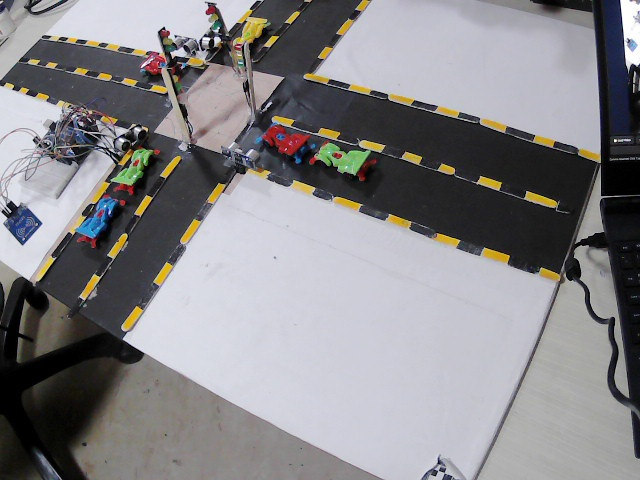aruco_marker: (421, 455, 468, 480)
black_strip: (55, 227, 76, 256), (136, 283, 160, 306), (508, 257, 540, 274), (292, 117, 320, 134), (336, 128, 360, 145), (497, 184, 526, 198), (98, 259, 117, 279), (65, 299, 82, 320), (146, 177, 167, 194), (191, 202, 211, 219), (122, 218, 141, 235), (268, 172, 291, 186), (168, 244, 186, 261), (95, 258, 114, 274), (363, 205, 388, 217), (411, 224, 435, 236), (313, 187, 332, 202), (382, 145, 403, 157), (411, 101, 436, 111), (106, 165, 121, 181), (550, 144, 576, 153), (506, 130, 529, 140), (459, 240, 478, 252), (226, 22, 241, 37), (459, 114, 480, 124), (327, 33, 342, 47), (454, 169, 477, 178), (111, 122, 131, 132), (309, 59, 324, 72), (135, 79, 154, 89), (371, 90, 388, 101), (82, 202, 95, 216), (421, 159, 437, 170), (347, 8, 364, 18), (276, 23, 290, 35), (254, 47, 268, 59), (326, 80, 344, 89), (298, 0, 310, 12), (17, 53, 32, 62), (559, 202, 571, 213), (86, 110, 99, 120), (57, 62, 75, 69), (209, 49, 220, 60), (250, 0, 262, 10), (85, 67, 97, 77), (220, 172, 230, 183), (174, 53, 186, 62), (145, 50, 158, 58), (35, 56, 46, 65), (30, 88, 41, 97), (110, 73, 124, 80), (117, 45, 133, 51), (57, 34, 68, 41), (98, 41, 108, 48), (14, 83, 22, 91), (76, 37, 86, 43), (90, 113, 99, 118), (0, 80, 5, 86), (42, 33, 49, 37), (48, 99, 57, 102)
car: (252, 120, 315, 161), (76, 194, 125, 246), (313, 140, 369, 183), (111, 148, 162, 191), (231, 14, 273, 45), (138, 48, 162, 76)
mixed_lane: (250, 167, 559, 279), (274, 116, 568, 214), (316, 74, 605, 167), (65, 153, 181, 312), (124, 167, 231, 328), (33, 146, 137, 283), (20, 53, 168, 95), (305, 0, 371, 78), (253, 0, 313, 64), (0, 80, 94, 117), (208, 0, 262, 62), (39, 32, 157, 57), (93, 114, 133, 134), (170, 51, 206, 69)
traffic_light: (160, 67, 191, 124), (202, 4, 229, 45), (235, 41, 253, 97), (157, 25, 177, 66)
uno_breadboard: (32, 114, 107, 167), (15, 150, 84, 201), (0, 201, 49, 243), (219, 138, 261, 169), (108, 124, 149, 155), (199, 19, 219, 48), (173, 31, 198, 53)
yellow_strip: (33, 256, 56, 281), (481, 246, 508, 266), (107, 235, 131, 256), (481, 118, 506, 137), (80, 275, 101, 297), (432, 231, 459, 247), (335, 196, 360, 213), (290, 180, 313, 196), (181, 223, 200, 242), (154, 265, 173, 284), (135, 196, 154, 215), (206, 182, 226, 200), (159, 157, 179, 175), (69, 215, 87, 234), (124, 308, 141, 328), (527, 194, 553, 207), (91, 184, 109, 202), (578, 148, 599, 163), (389, 94, 410, 108), (538, 268, 562, 280), (347, 85, 371, 97), (533, 134, 553, 148), (388, 215, 411, 227), (315, 126, 336, 139), (119, 148, 135, 165), (478, 178, 500, 190), (361, 140, 382, 152), (338, 18, 353, 34), (285, 10, 302, 24), (306, 74, 327, 85), (436, 108, 458, 117), (237, 10, 252, 22), (254, 167, 270, 178), (218, 37, 234, 48), (438, 163, 452, 175), (320, 46, 334, 58), (404, 152, 419, 163), (276, 116, 292, 126), (265, 35, 278, 47), (187, 57, 201, 68), (150, 83, 166, 92), (122, 77, 135, 88), (85, 38, 98, 48), (100, 117, 114, 126), (59, 101, 72, 110), (97, 73, 111, 80), (357, 0, 369, 8), (66, 34, 76, 43), (133, 47, 147, 53), (45, 62, 55, 70), (104, 43, 117, 49), (76, 68, 90, 73), (34, 94, 48, 99), (30, 57, 38, 64), (20, 88, 28, 95), (6, 81, 14, 88), (51, 34, 57, 40)
